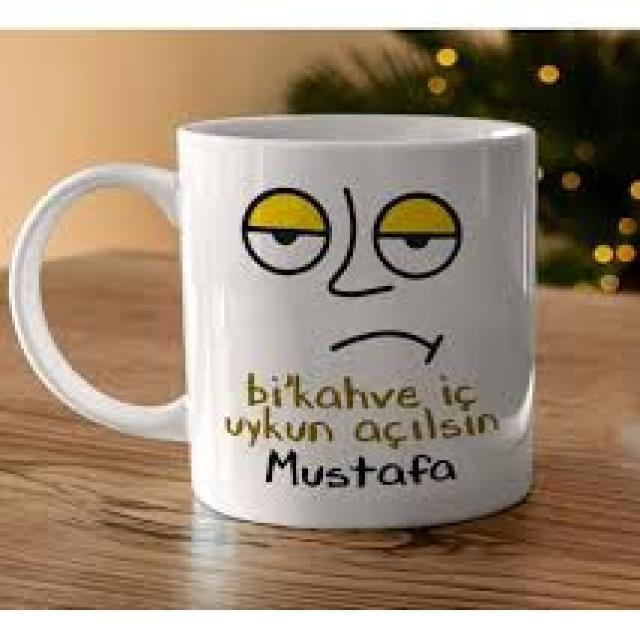taza: (9, 113, 538, 530)
